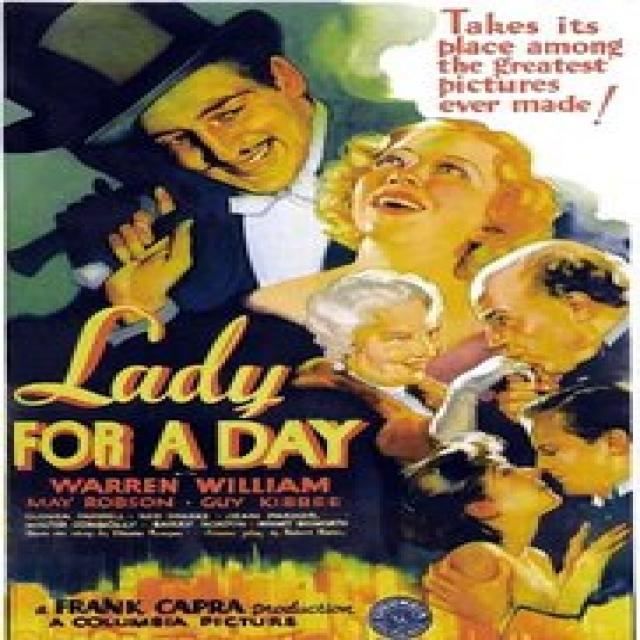movie-judul: (10, 304, 370, 472)
picture: (3, 2, 640, 635)
